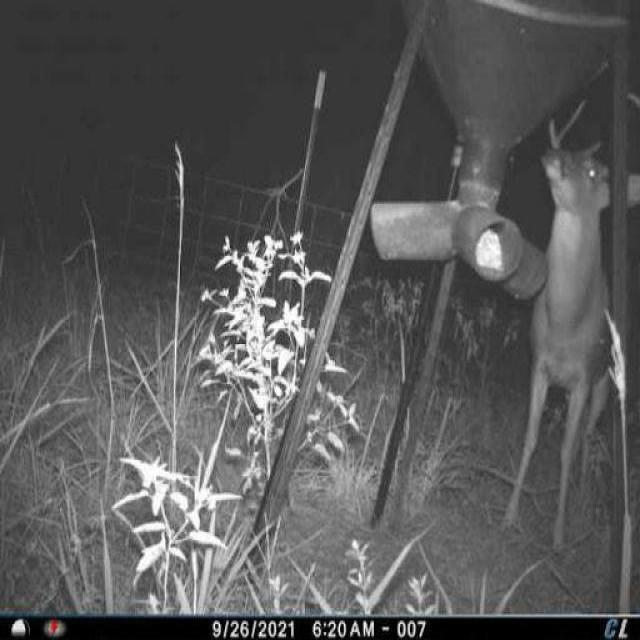deer: (511, 65, 640, 562)
